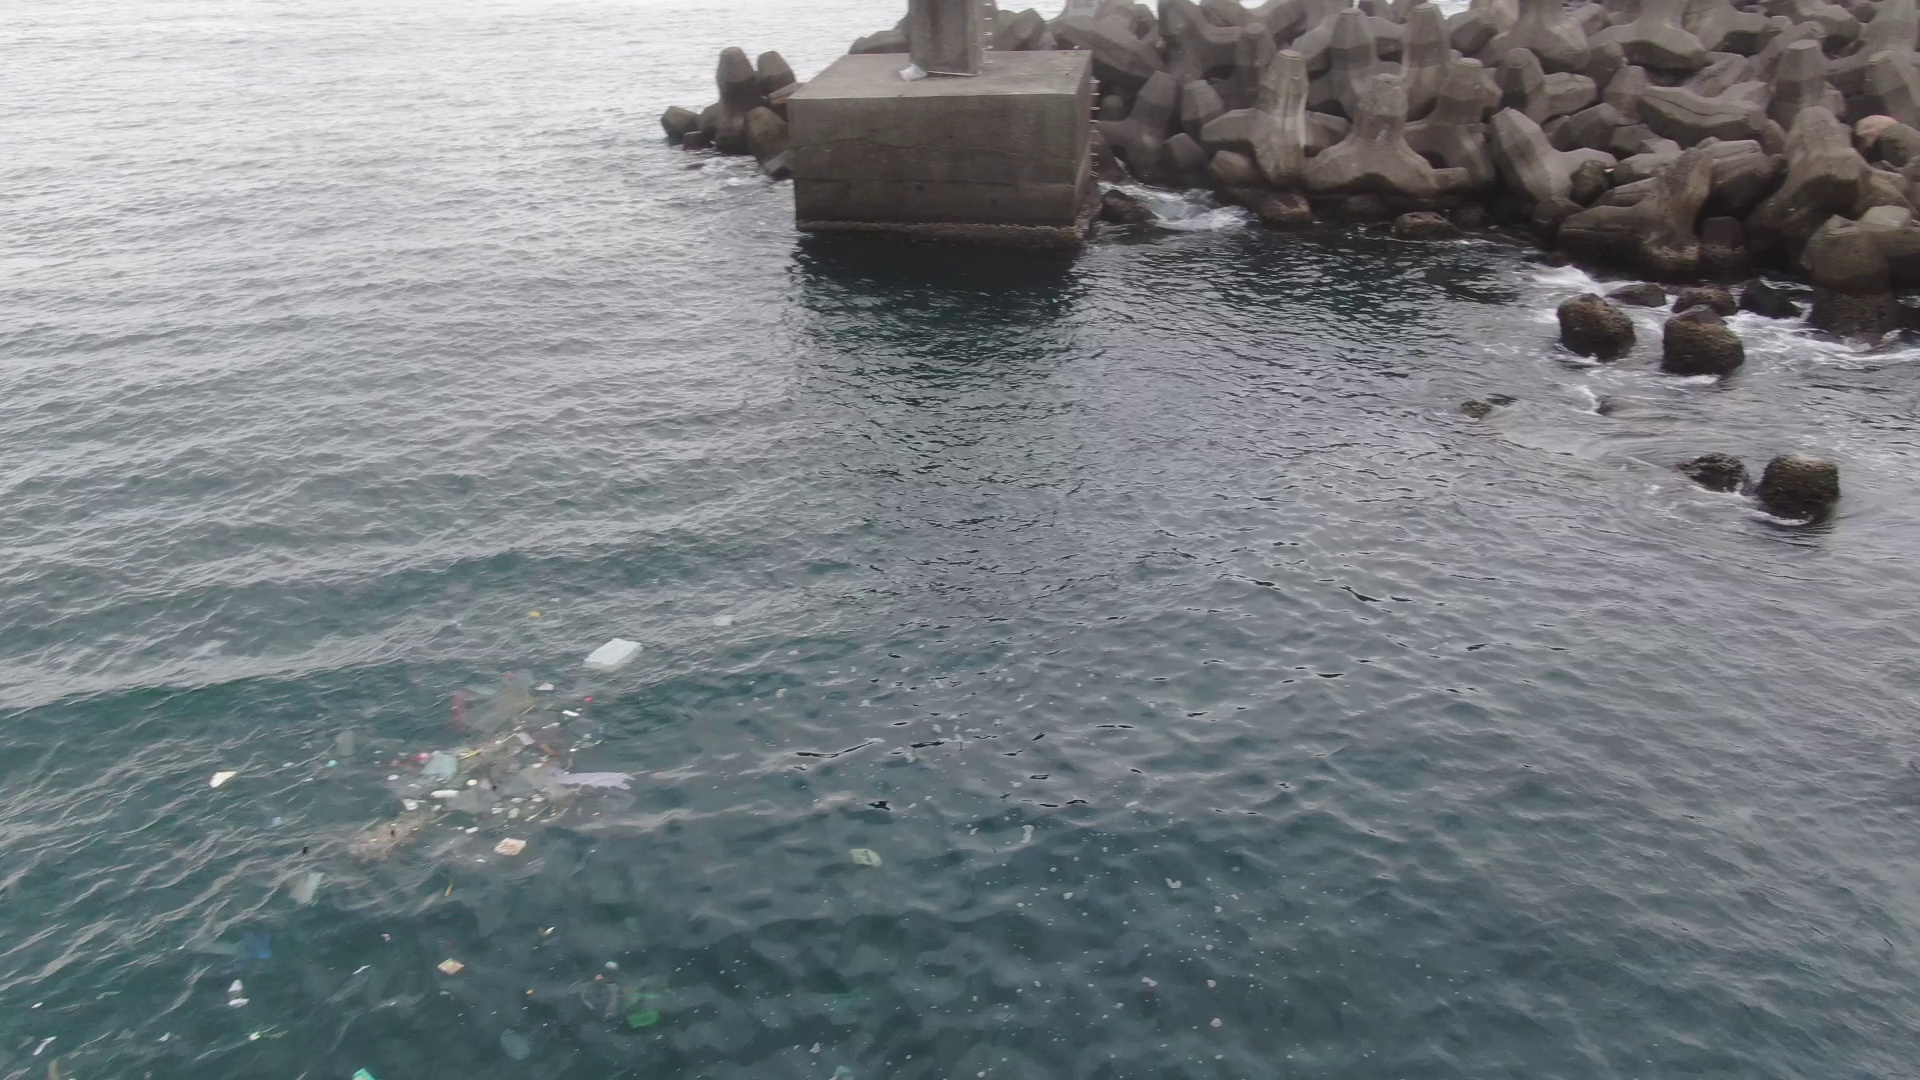garbage: (389, 678, 634, 861), (597, 976, 666, 1038), (222, 928, 272, 1009), (582, 630, 645, 667), (214, 764, 239, 791), (852, 841, 880, 866), (436, 953, 463, 975), (347, 1069, 369, 1080)
